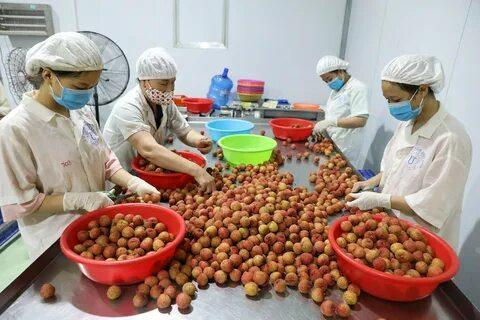hairnet: (16, 15, 107, 93), (374, 42, 456, 94), (311, 33, 353, 79), (133, 40, 187, 75)
mask: (60, 75, 106, 119), (144, 76, 190, 117), (388, 91, 424, 132), (318, 72, 350, 101)
